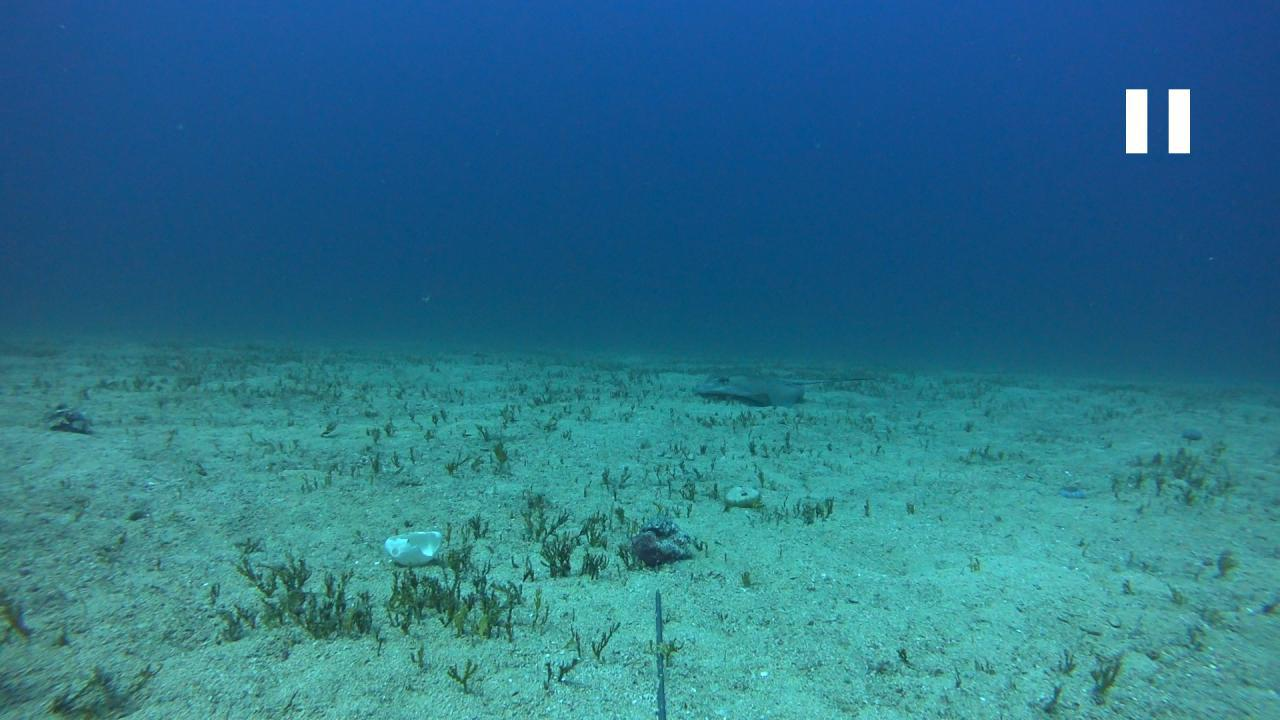dasyatis: (696, 362, 883, 405)
